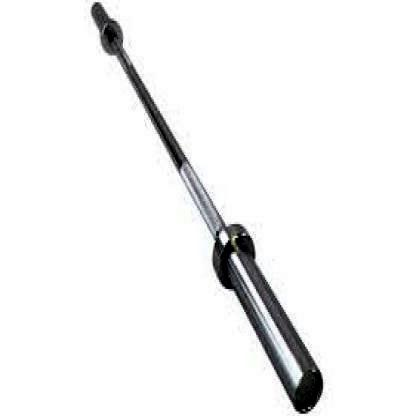Barbell: (281, 354, 329, 414)
